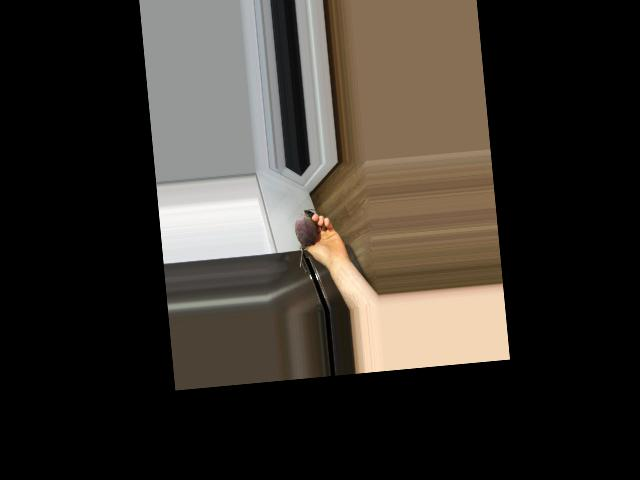beet: (293, 208, 321, 267)
